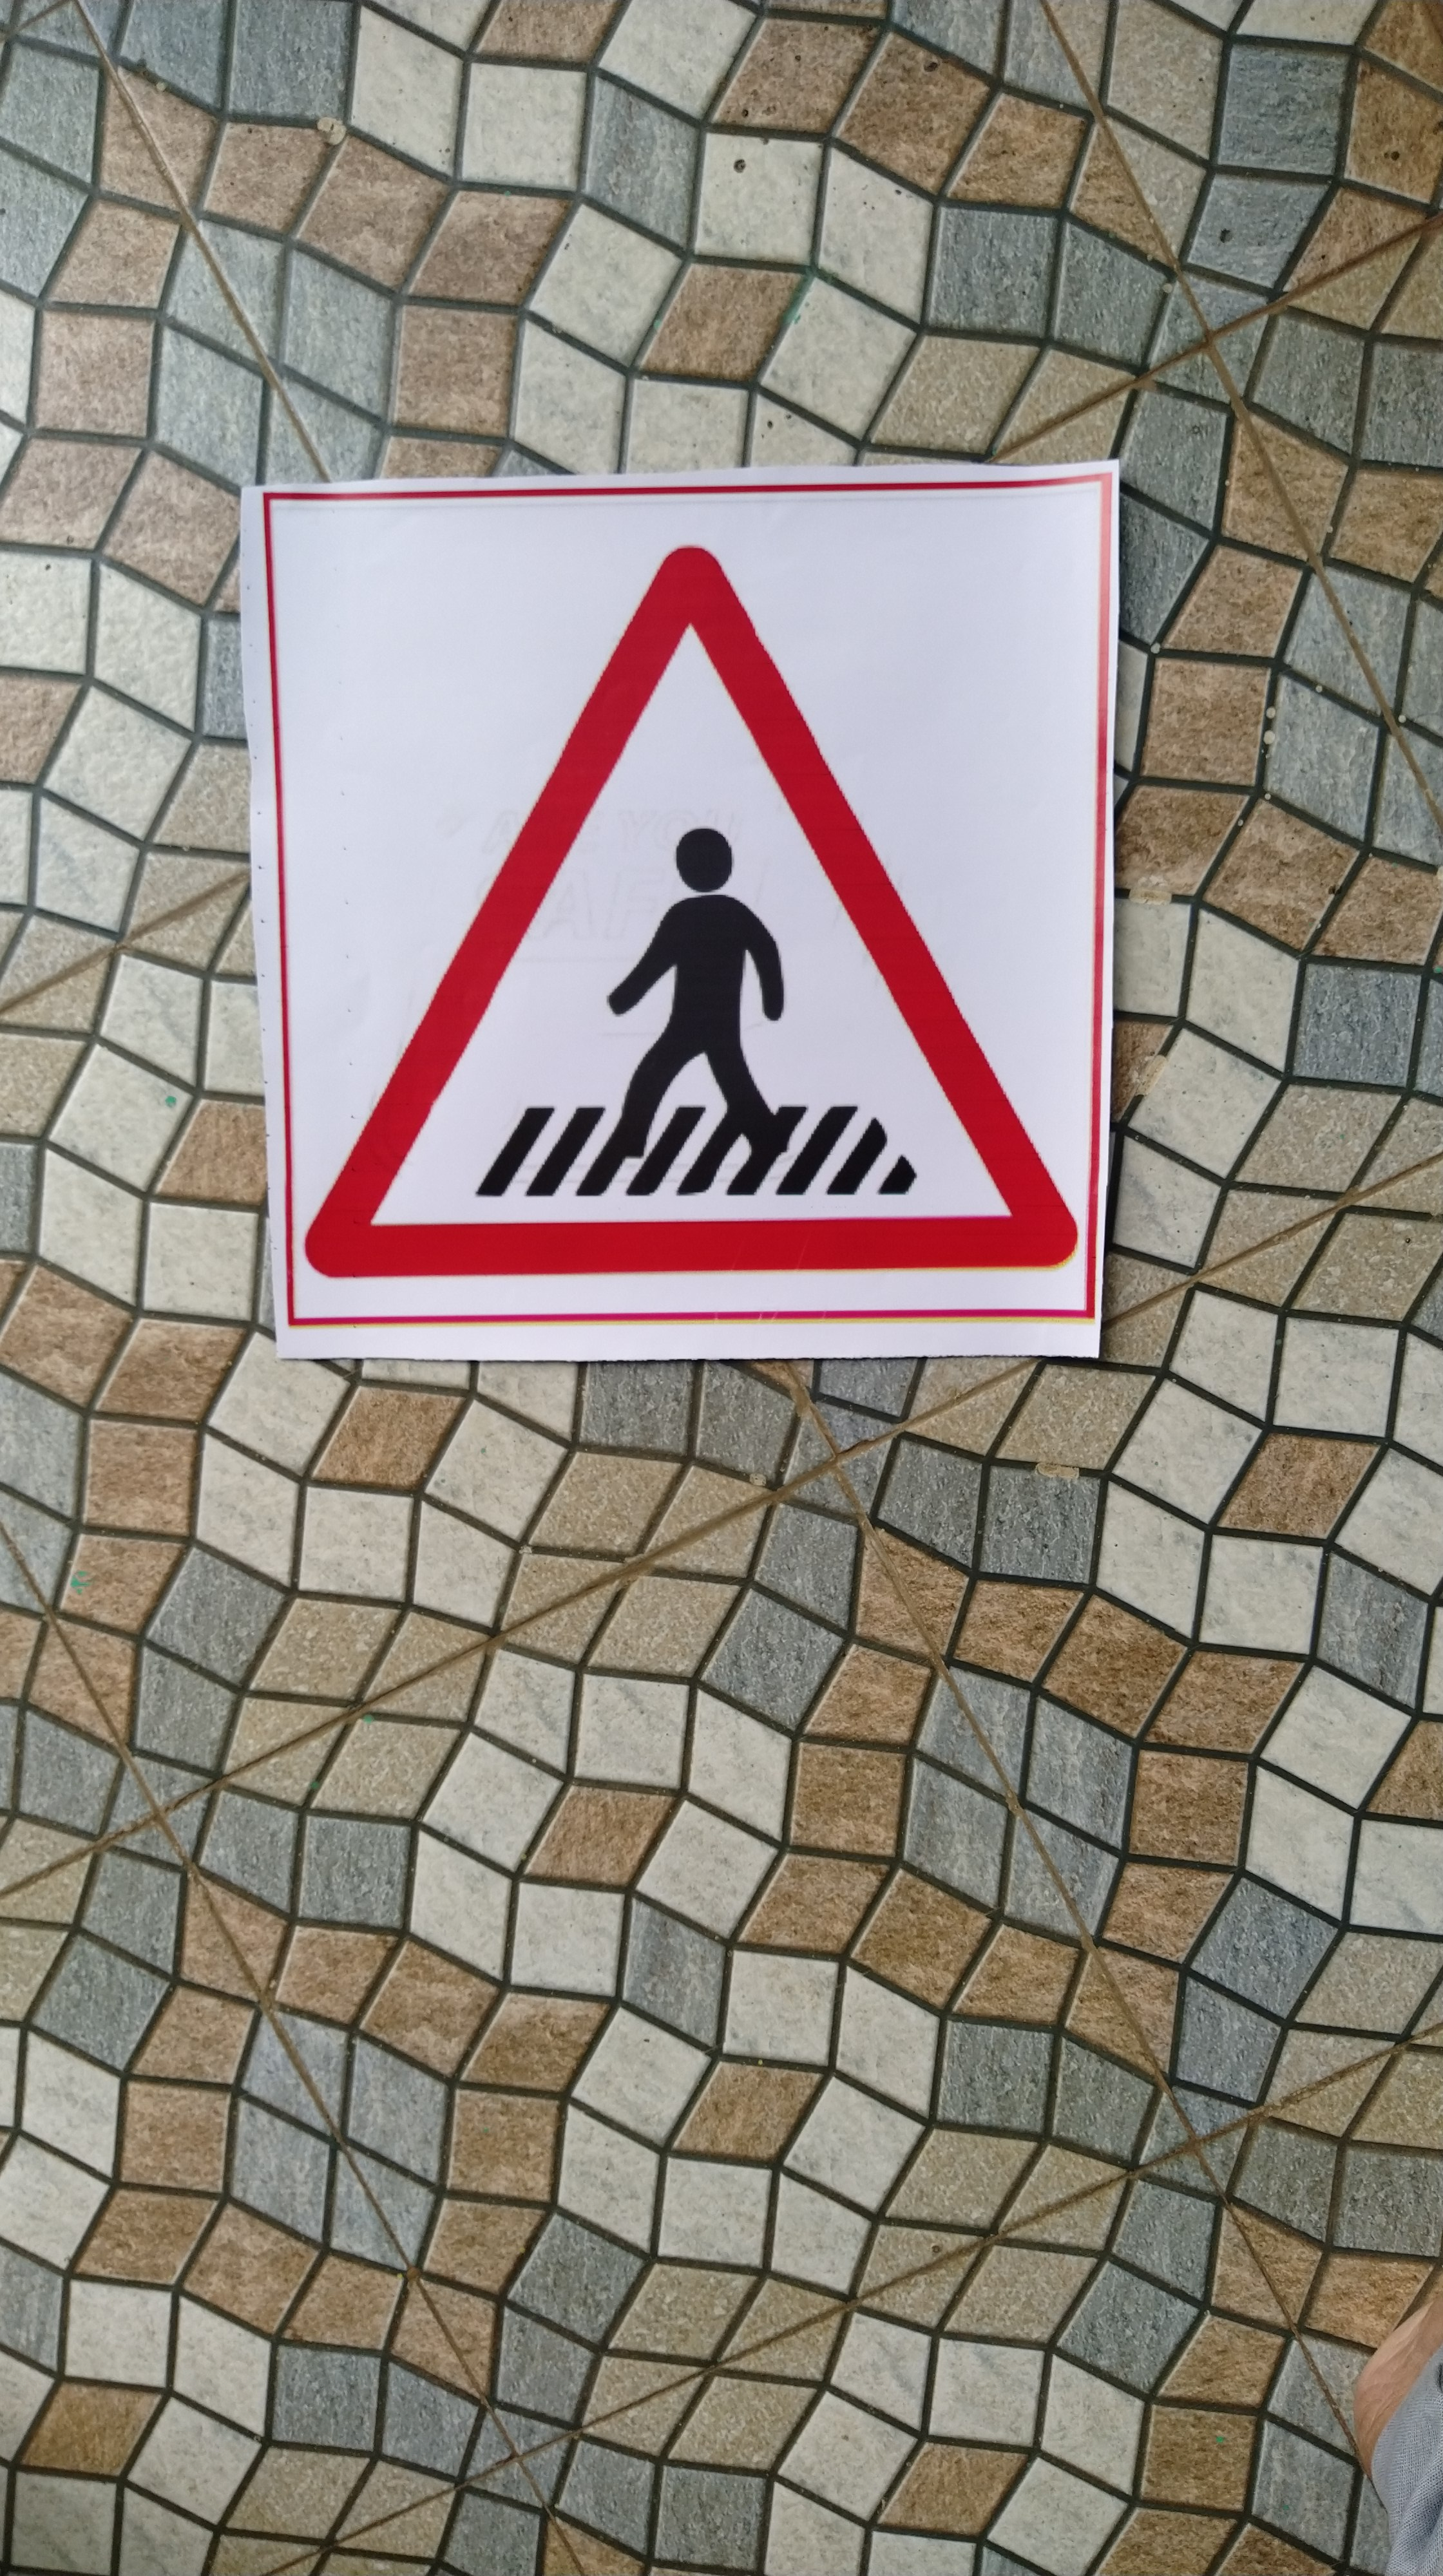pedestrain crossing: (274, 511, 1105, 1323)
